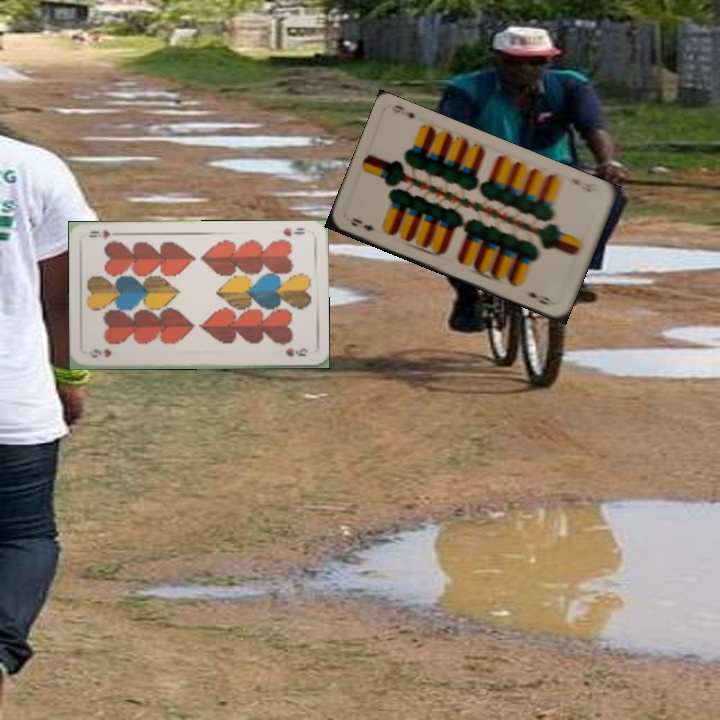E9: (567, 174, 599, 195), (347, 214, 377, 234)
H9: (85, 345, 114, 360), (279, 224, 308, 239)
